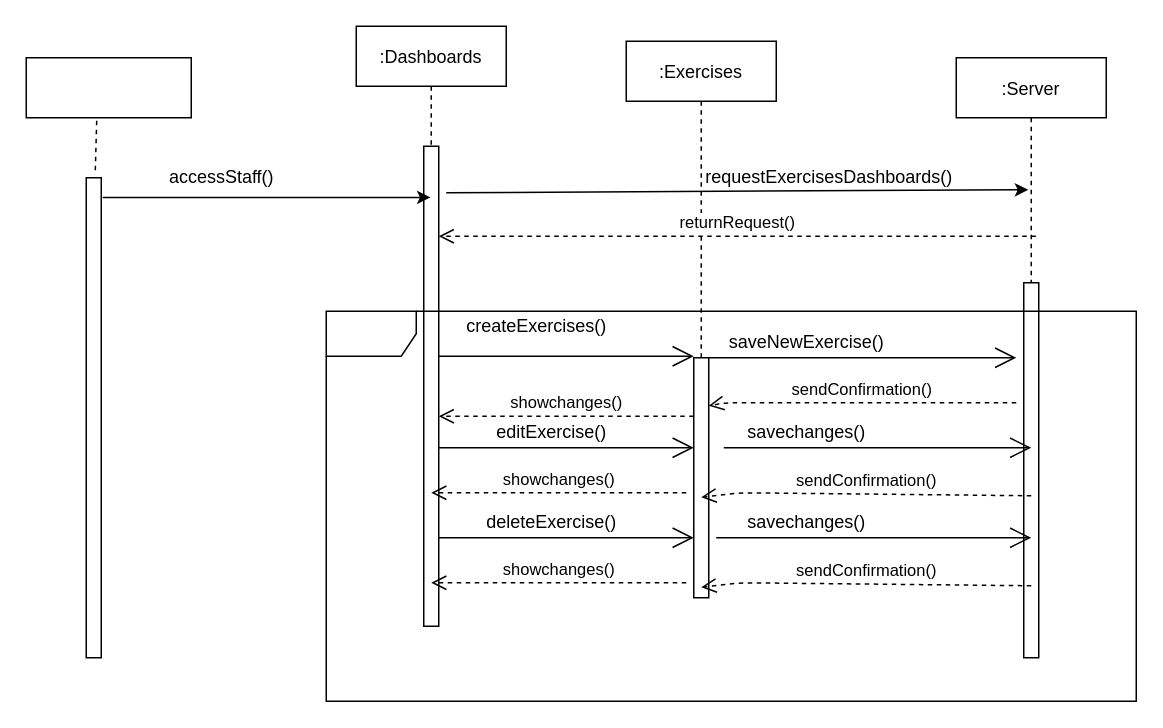
This 1163x728 diagram has some shape labels left out. The centre of each missing label's shape, as x and y in pixels:
":Customer Page" belongs at point (108, 87).
"frame" belongs at point (730, 505).
